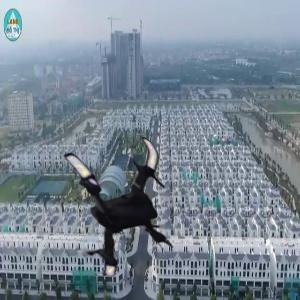drone: (41, 132, 201, 292)
